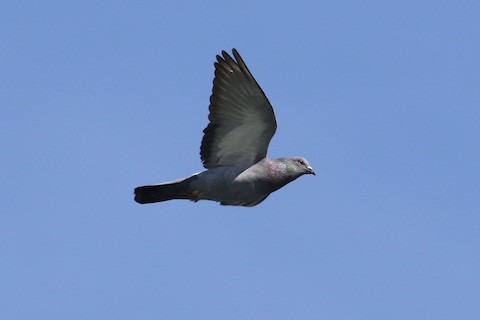pigeon: (124, 45, 321, 211)
